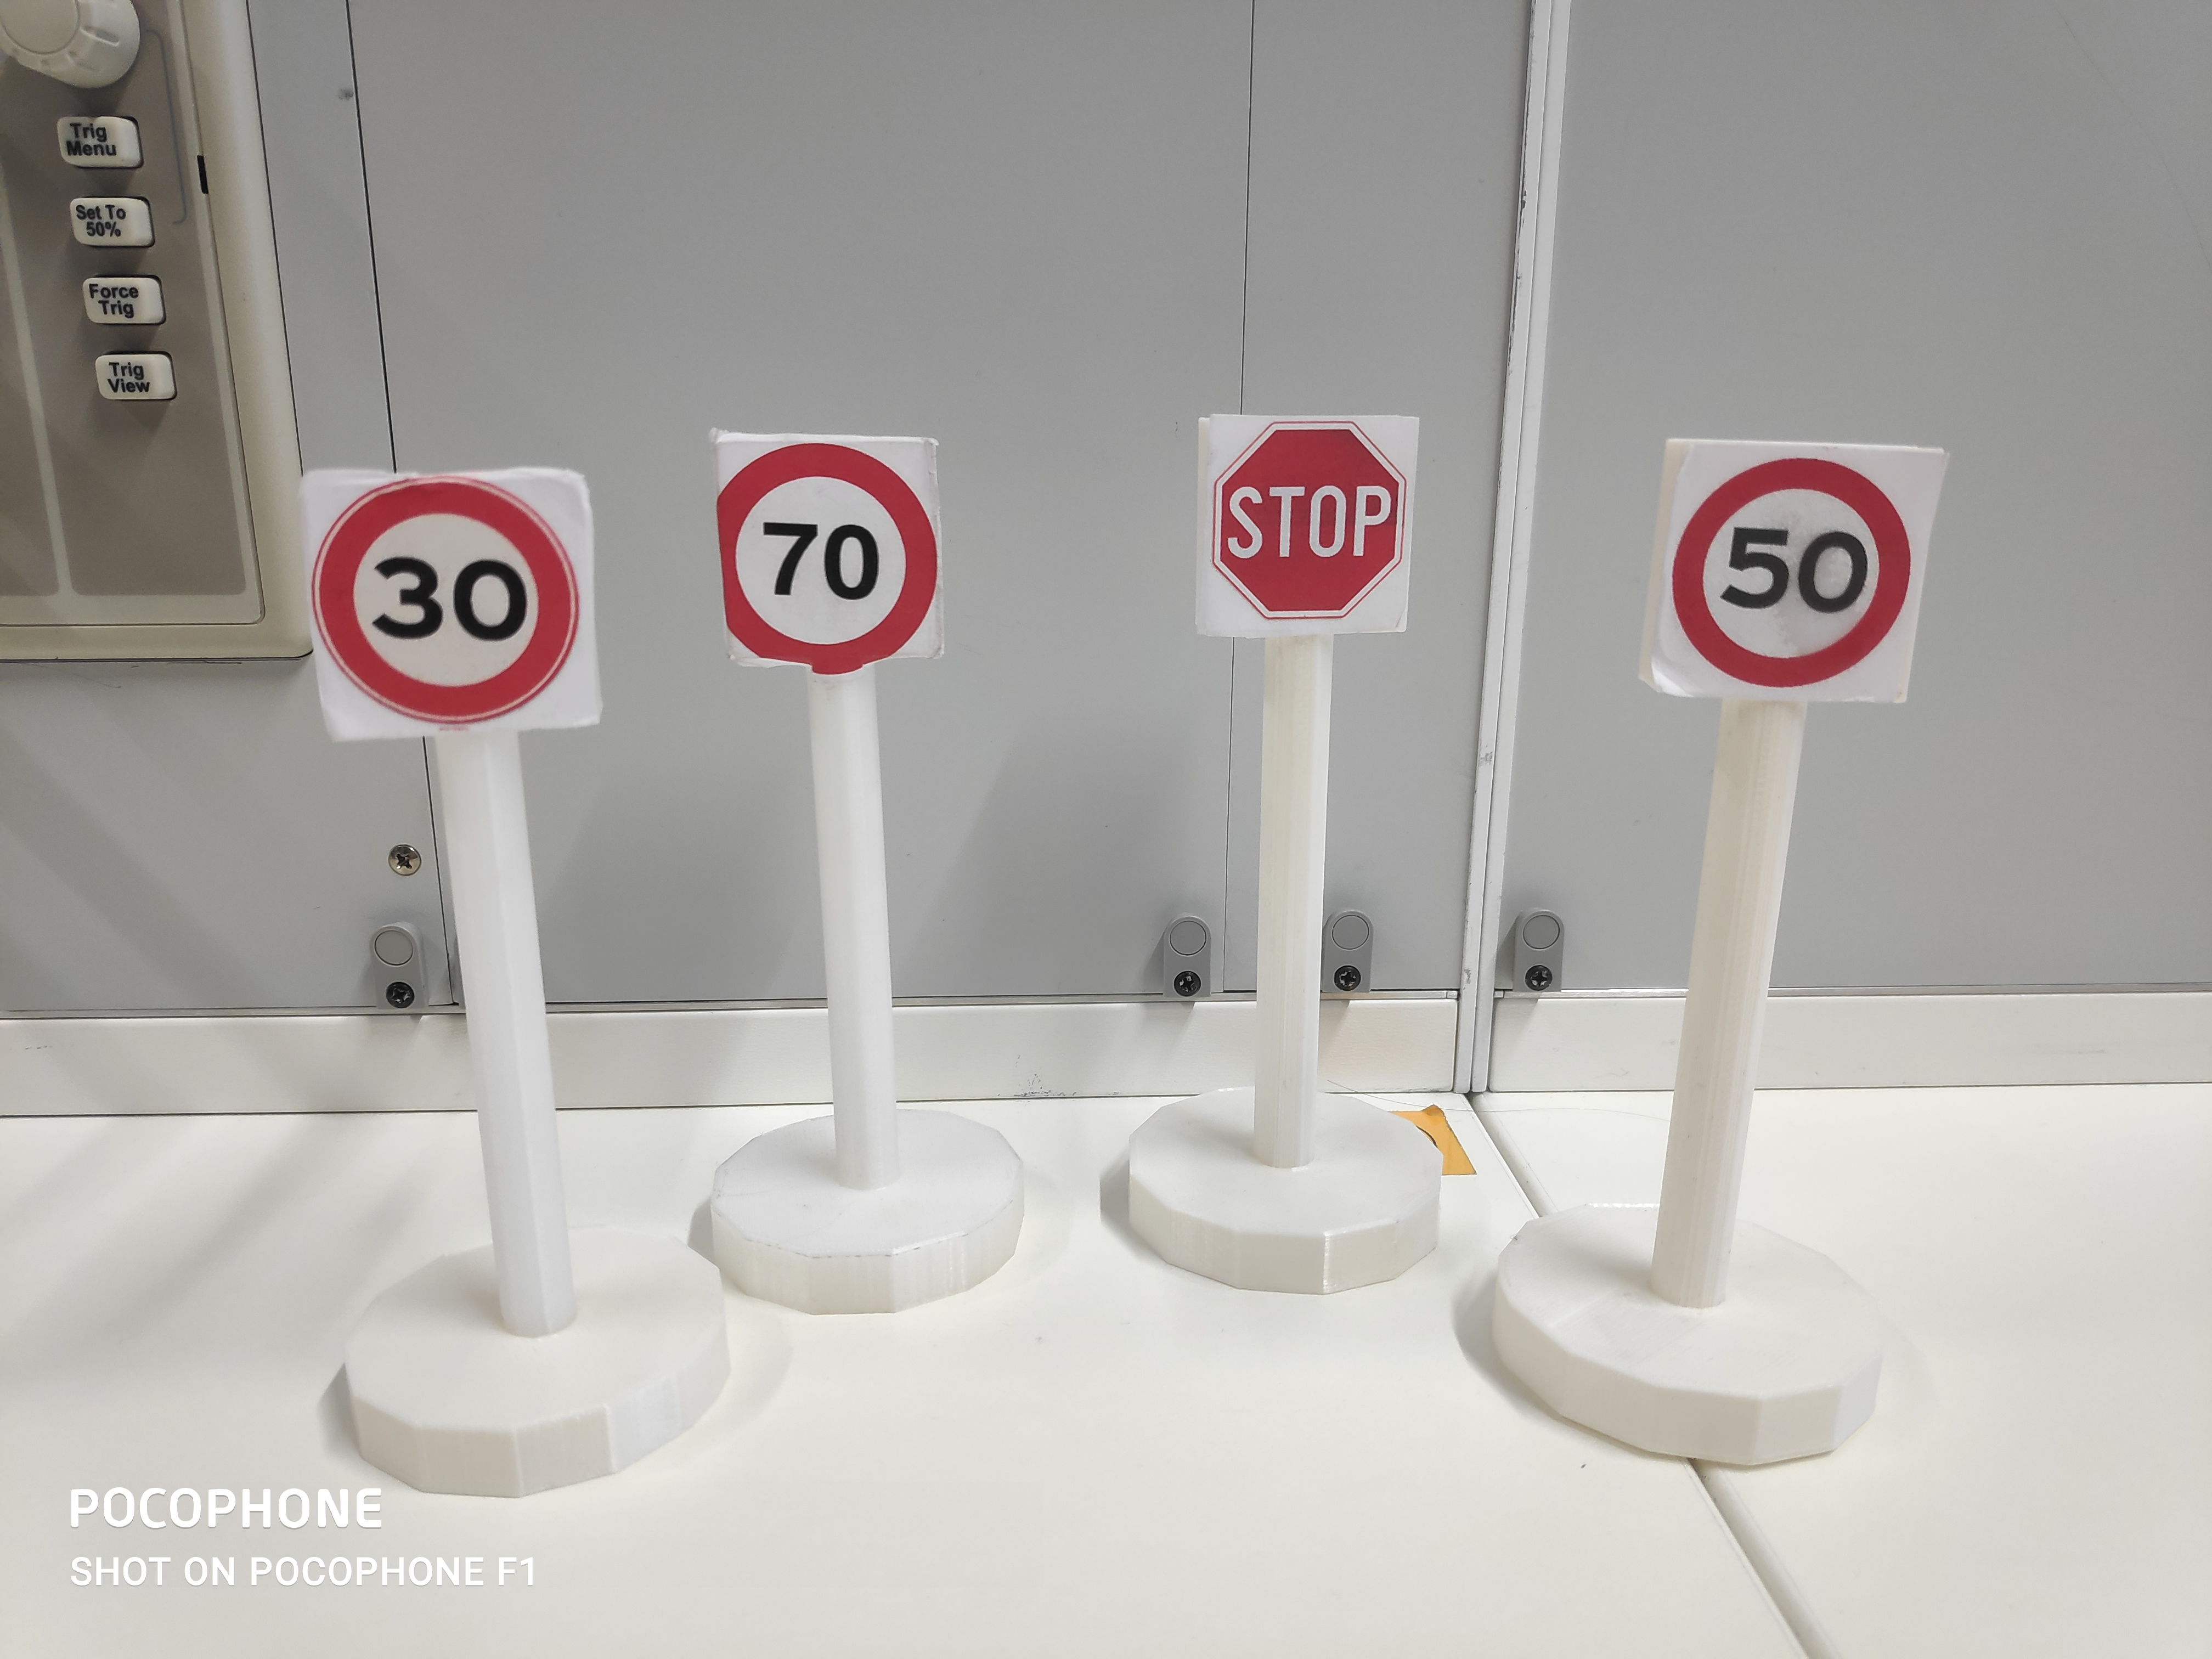30-bord: (314, 474, 580, 727)
50-bord: (1674, 457, 1916, 688)
70-bord: (718, 436, 941, 671)
stop-bord: (1216, 418, 1411, 620)
